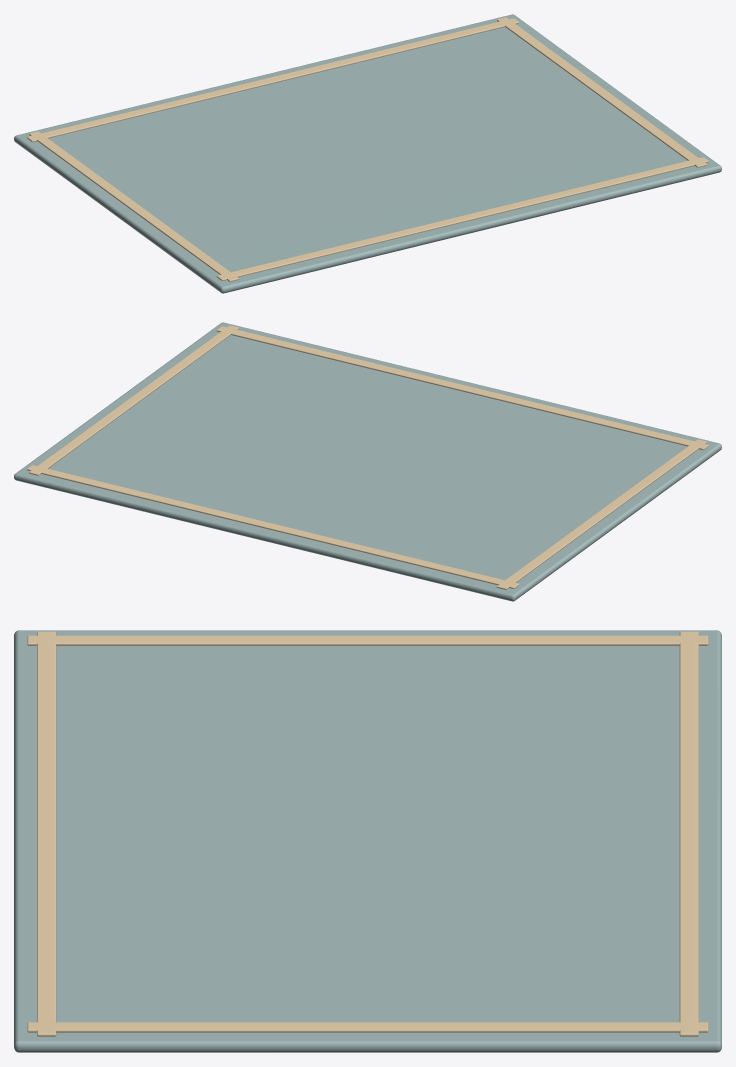
The model's file is atelier-outdoor-rug.glb.
3 views of the same model, one above another, from view 1: azimuth 30°, elevation 25°; view 2: azimuth 150°, elevation 25°; view 3: azimuth 270°, elevation 25° (orthographic). The views are drawn at different scales.
Visible parts, largest first — view 1: fabric.077, accent.027; view 2: fabric.077, accent.027; view 3: fabric.077, accent.027.
Part boxes in pixels (<box>): fabric.077: <box>14,14,721,293</box>; accent.027: <box>27,17,708,281</box>; fabric.077: <box>14,322,721,601</box>; accent.027: <box>27,325,708,589</box>; fabric.077: <box>14,630,721,1052</box>; accent.027: <box>27,631,708,1036</box>.
Size of the model in its own units: 1.8 by 0.03 by 1.3.
